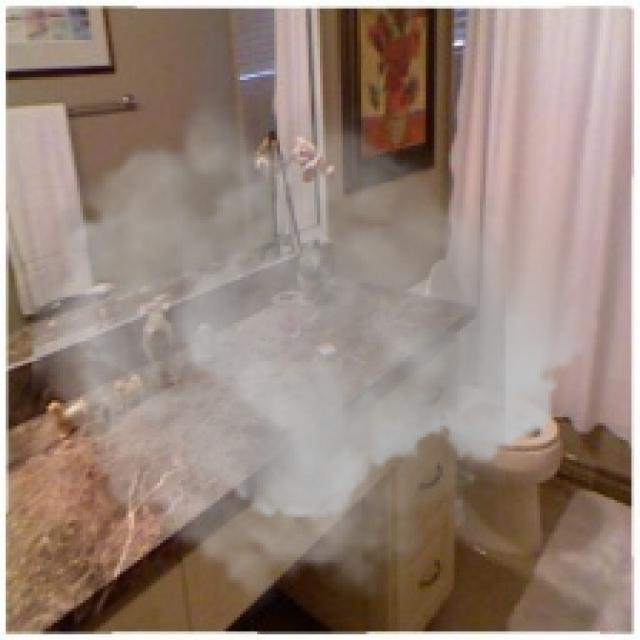Smoke: (31, 85, 600, 618)
